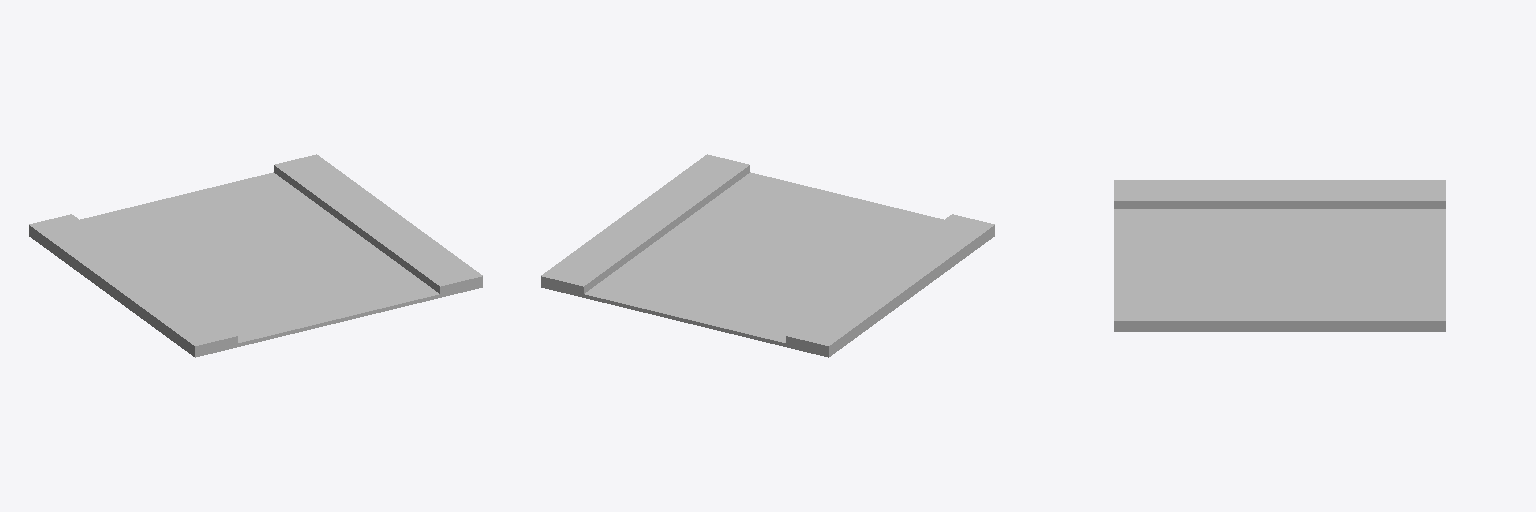
The model's file is Road.obj.
3 renders of one model, left to right at view 1: azimuth 30°, elevation 25°; view 2: azimuth 150°, elevation 25°; view 3: azimuth 270°, elevation 25°, orthographic.
Visible parts, largest first — view 1: Road; view 2: Road; view 3: Road.
Boxes of the visible parts, <box> form: Road: <box>29,154,482,357</box>; Road: <box>541,154,994,357</box>; Road: <box>1114,180,1445,331</box>.
Size of the model in its own units: 80 by 3 by 80.